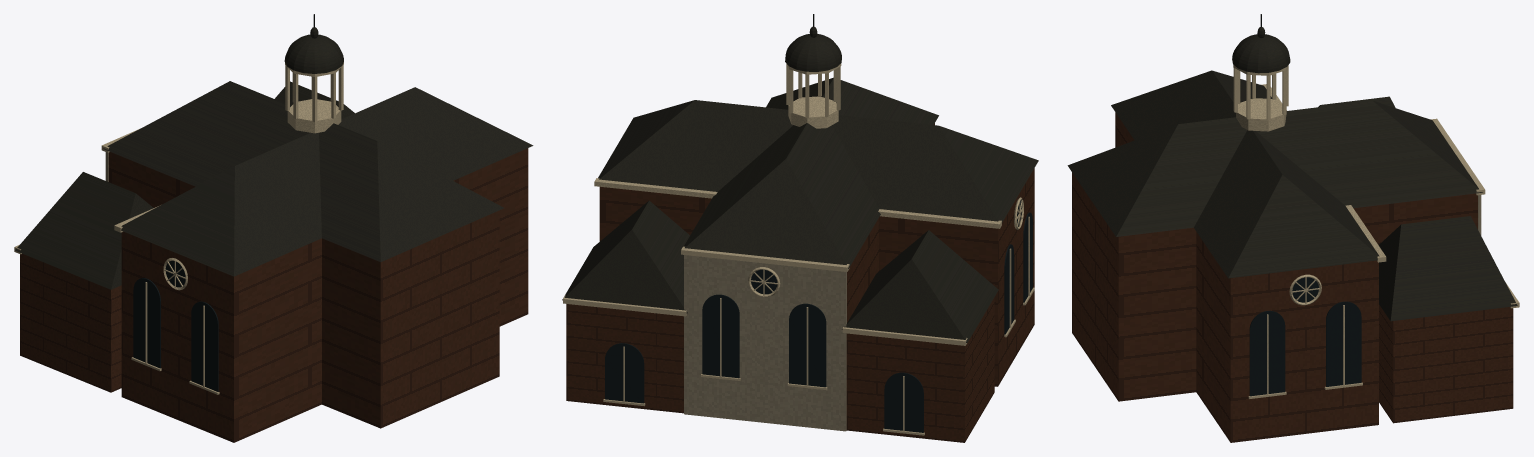
3 views of the same model, side by side, from view 1: azimuth 30°, elevation 25°; view 2: azimuth 150°, elevation 25°; view 3: azimuth 270°, elevation 25° (orthographic). The views are drawn at different scales.
Parts seen in each view (by area): view 1: schotse-kerk-3, schotse-kerk-1, schotse-kerk-4, schotse-kerk-0; view 2: schotse-kerk-1, schotse-kerk-3, schotse-kerk-5, schotse-kerk-4, schotse-kerk-0; view 3: schotse-kerk-1, schotse-kerk-3, schotse-kerk-4, schotse-kerk-0.
Boxes of the visible parts, <box> form: schotse-kerk-3: <box>20,148,528,442</box>; schotse-kerk-1: <box>15,27,533,289</box>; schotse-kerk-4: <box>133,260,218,391</box>; schotse-kerk-0: <box>14,62,343,394</box>; schotse-kerk-1: <box>562,26,1038,342</box>; schotse-kerk-3: <box>566,123,1034,442</box>; schotse-kerk-5: <box>684,255,846,431</box>; schotse-kerk-4: <box>605,200,1032,432</box>; schotse-kerk-0: <box>563,63,1034,435</box>; schotse-kerk-1: <box>1067,27,1517,321</box>; schotse-kerk-3: <box>1072,112,1513,442</box>; schotse-kerk-4: <box>1249,277,1361,396</box>; schotse-kerk-0: <box>1233,65,1519,398</box>.
Bounding box in the file's own units: 33.53 × 25 × 30.76.
Materials: 6 (6 with a texture image).
